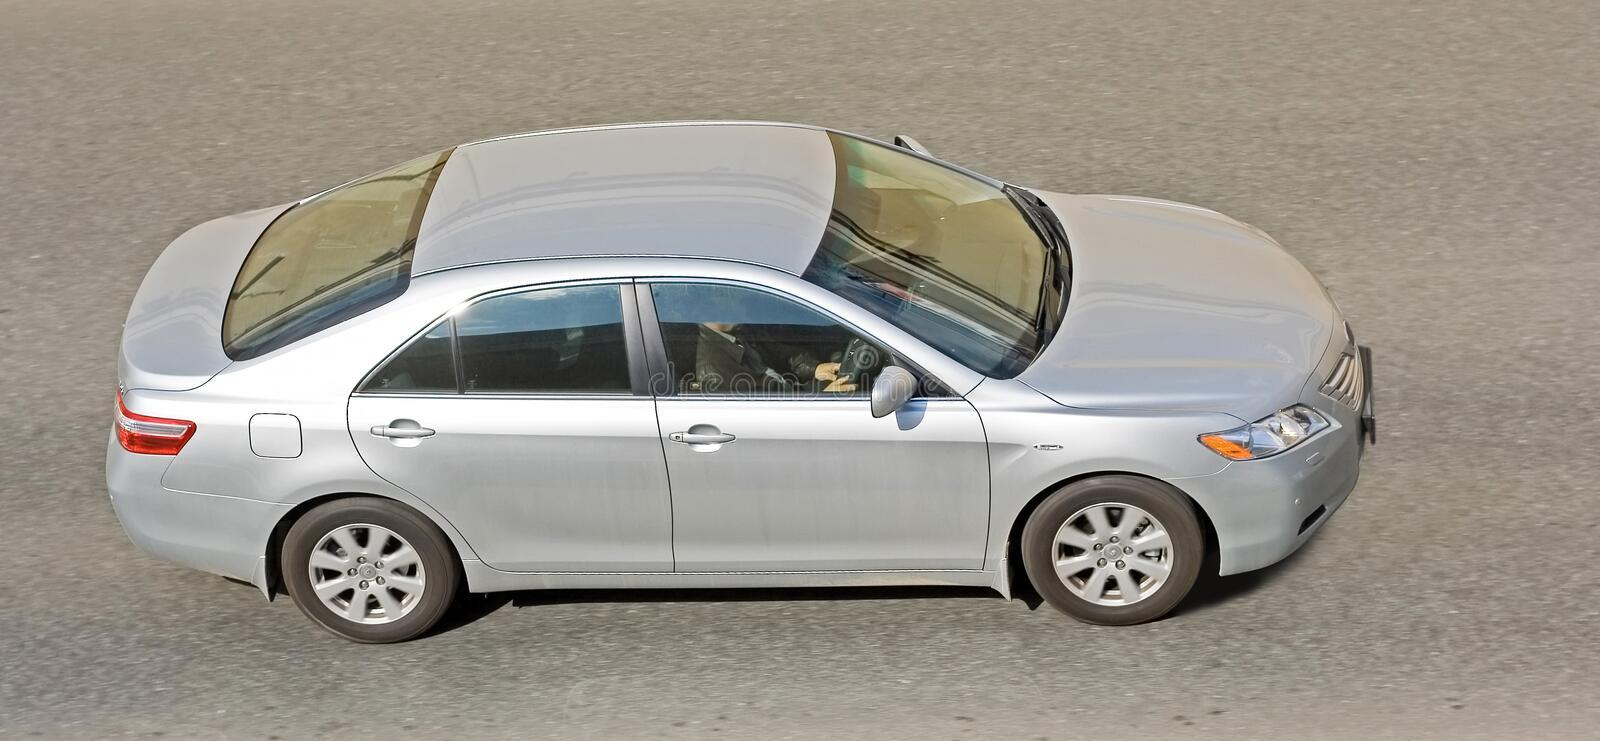car: (56, 90, 1409, 684)
